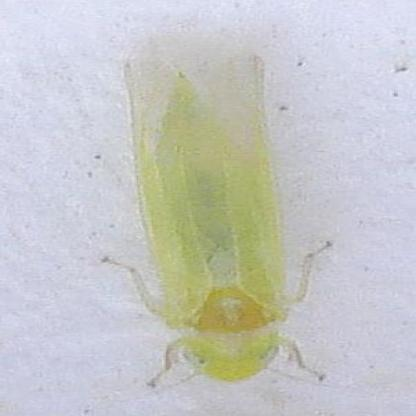green-leafhopper: (98, 63, 335, 387)
